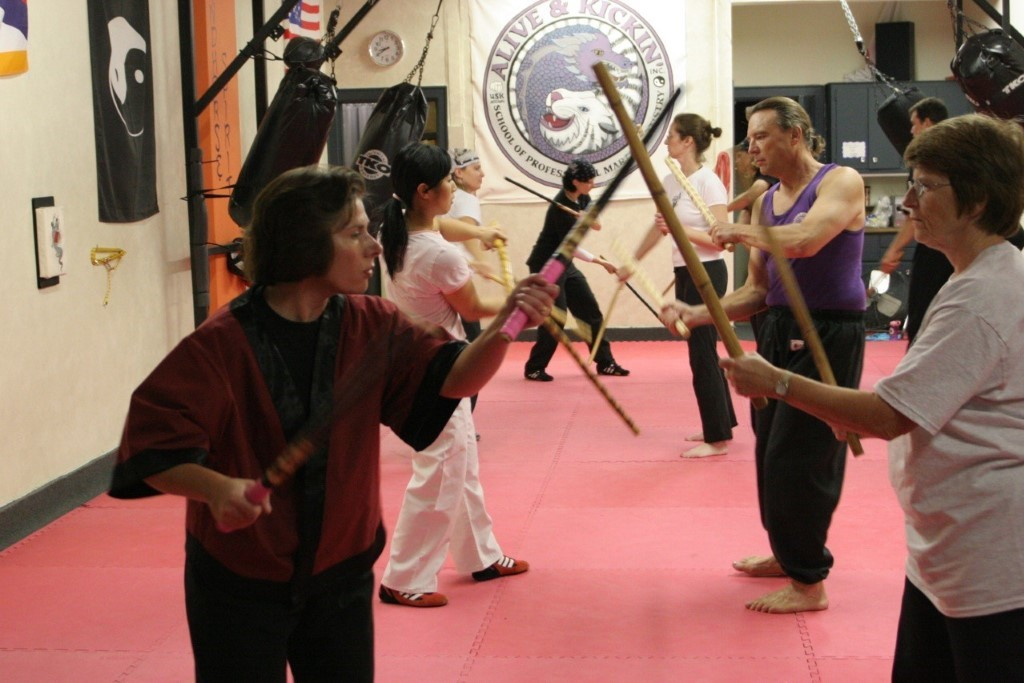baston_e: (589, 72, 768, 398), (231, 301, 425, 530), (518, 93, 674, 337), (758, 236, 863, 439), (664, 168, 725, 238), (507, 177, 578, 217), (493, 241, 515, 296)
baston_v: (493, 316, 522, 350), (209, 513, 235, 537), (584, 55, 611, 78), (847, 443, 875, 461), (749, 397, 769, 415), (626, 424, 646, 441), (670, 79, 688, 95), (722, 241, 737, 254), (680, 326, 692, 339), (584, 357, 594, 368), (662, 153, 671, 165), (500, 174, 509, 180)
